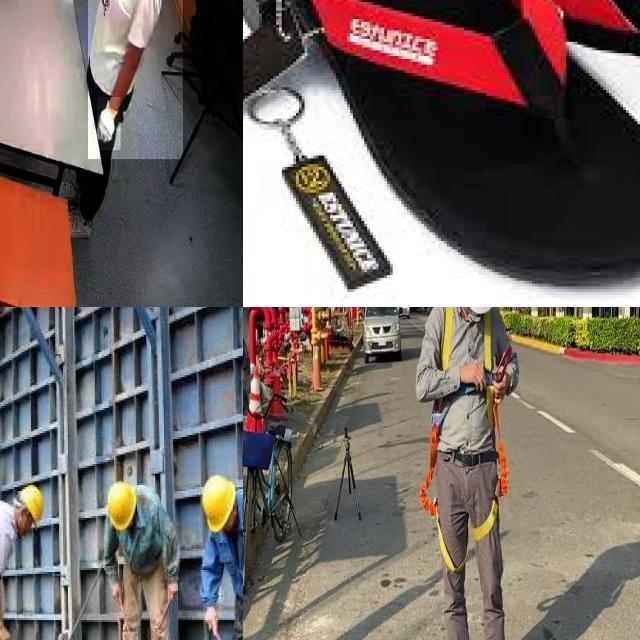Harness: (419, 423, 466, 572), (473, 400, 510, 542)
Sandals: (243, 0, 640, 307)
hand_glove: (97, 97, 121, 151)
hand_noglove: (160, 575, 183, 601), (201, 603, 221, 631), (105, 580, 126, 603), (0, 621, 15, 640)
head_helmet: (197, 471, 235, 533), (104, 479, 139, 529), (17, 482, 47, 531)
person: (94, 473, 191, 640), (88, 0, 183, 160), (185, 458, 243, 640), (0, 478, 40, 640)
